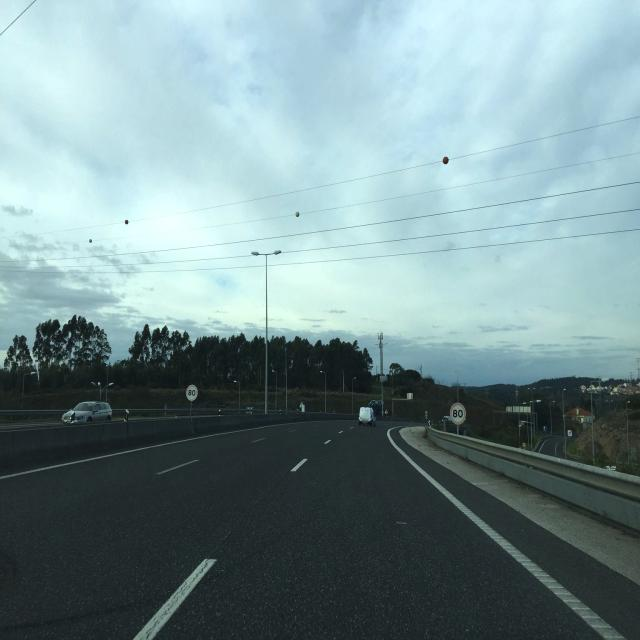car: (61, 400, 113, 424), (358, 407, 377, 428)
